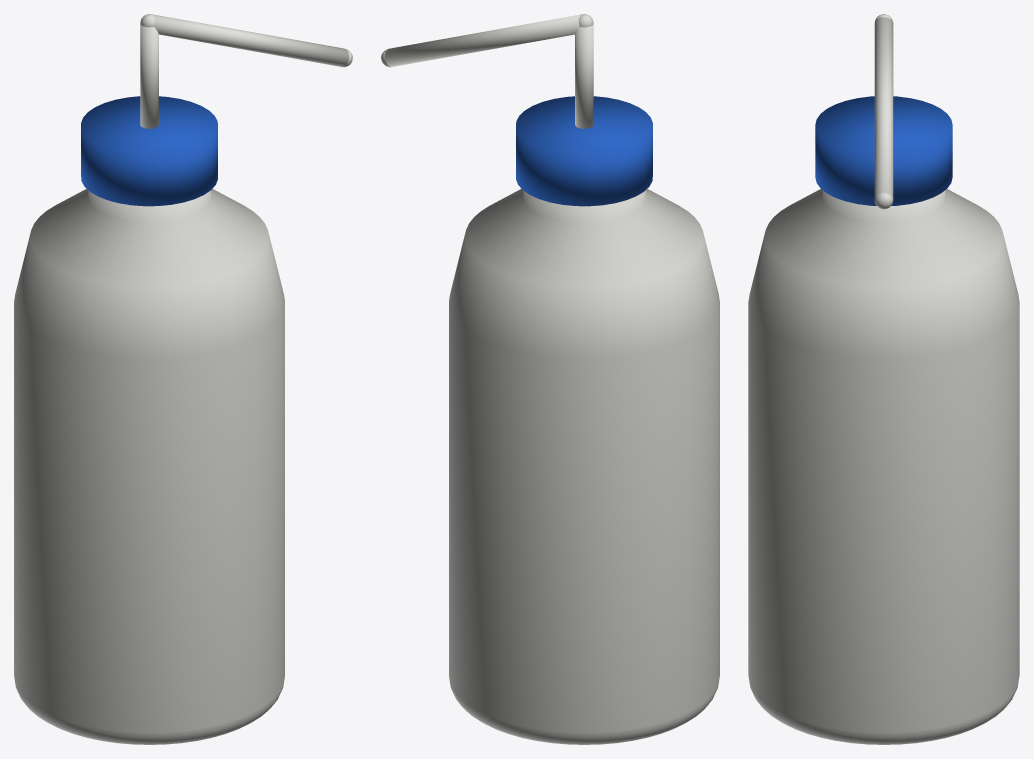
The model's file is SM_WashBottle_500.glb.
The picture shows the model from 3 angles, left to right: view 1: azimuth 30°, elevation 25°; view 2: azimuth 150°, elevation 25°; view 3: azimuth 270°, elevation 25°; orthographic projection.
Visible parts, largest first — view 1: SM_WashBottle_500; view 2: SM_WashBottle_500; view 3: SM_WashBottle_500.
Boxes of the visible parts, <box> form: SM_WashBottle_500: <box>14,14,352,744</box>; SM_WashBottle_500: <box>381,14,719,744</box>; SM_WashBottle_500: <box>748,14,1019,744</box>.
Size of the model in its own units: 0.1021 by 0.2076 by 0.075.
